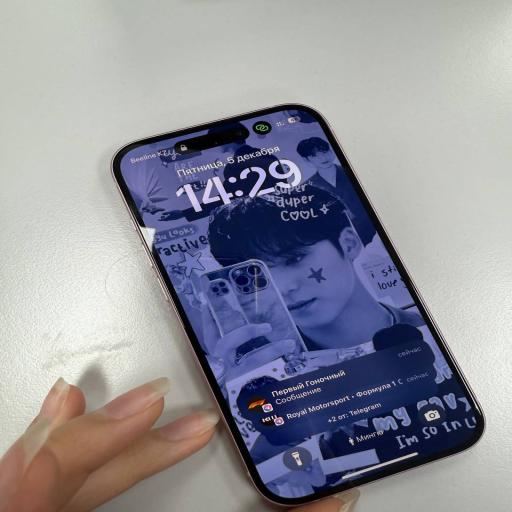curb: (112, 104, 484, 505)
